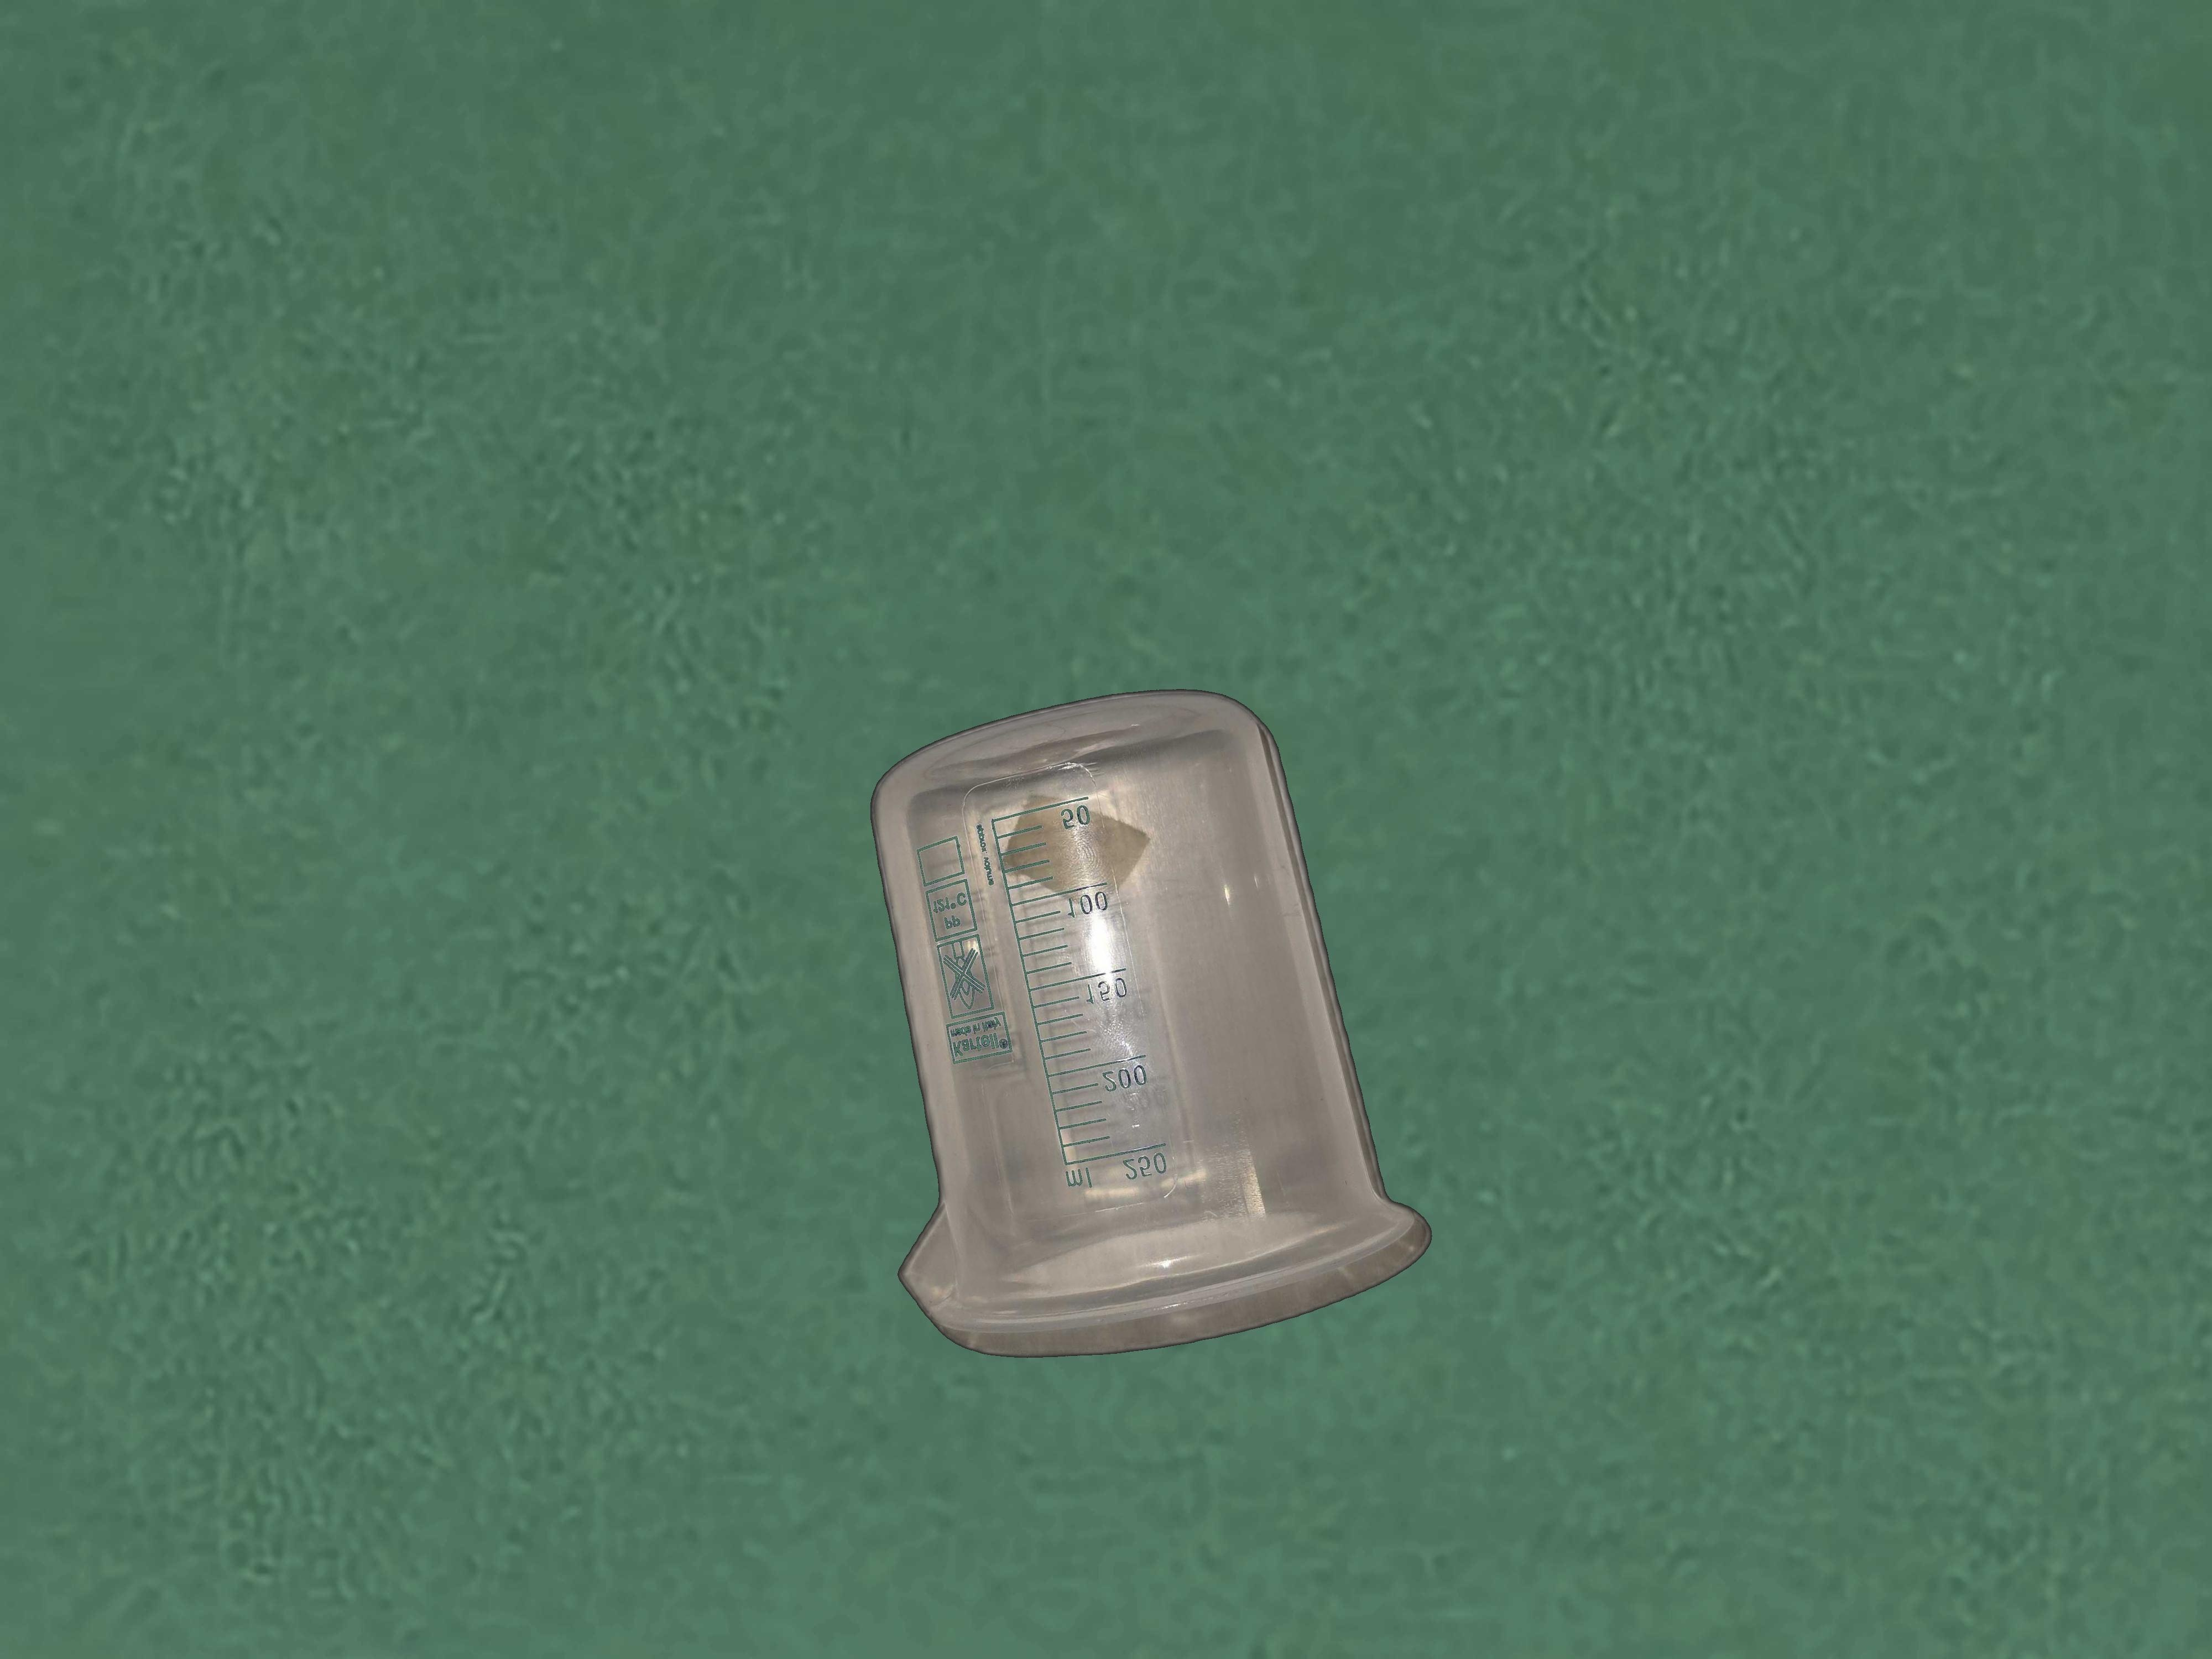becker: (873, 688, 1432, 1361)
